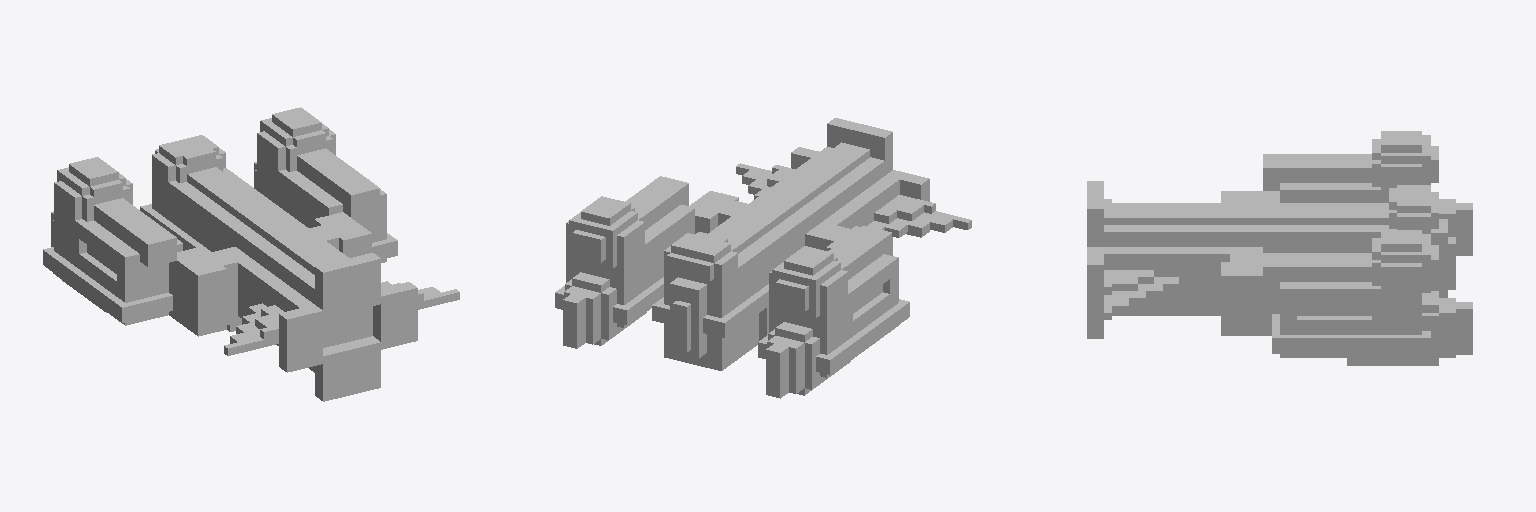
Rendered from 3 Enemy.obj.
The picture shows the model from 3 angles: view 1: azimuth 30°, elevation 25°; view 2: azimuth 150°, elevation 25°; view 3: azimuth 270°, elevation 25°; orthographic projection.
Visible parts, largest first — view 1: 6 Ship; view 2: 6 Ship; view 3: 6 Ship.
Part boxes in pixels (left/top/right/bottom): 6 Ship: left=43, top=107, right=459, bottom=401; 6 Ship: left=555, top=118, right=971, bottom=398; 6 Ship: left=1087, top=131, right=1472, bottom=365.
Bounding box in the file's own units: 38 × 18 × 46.